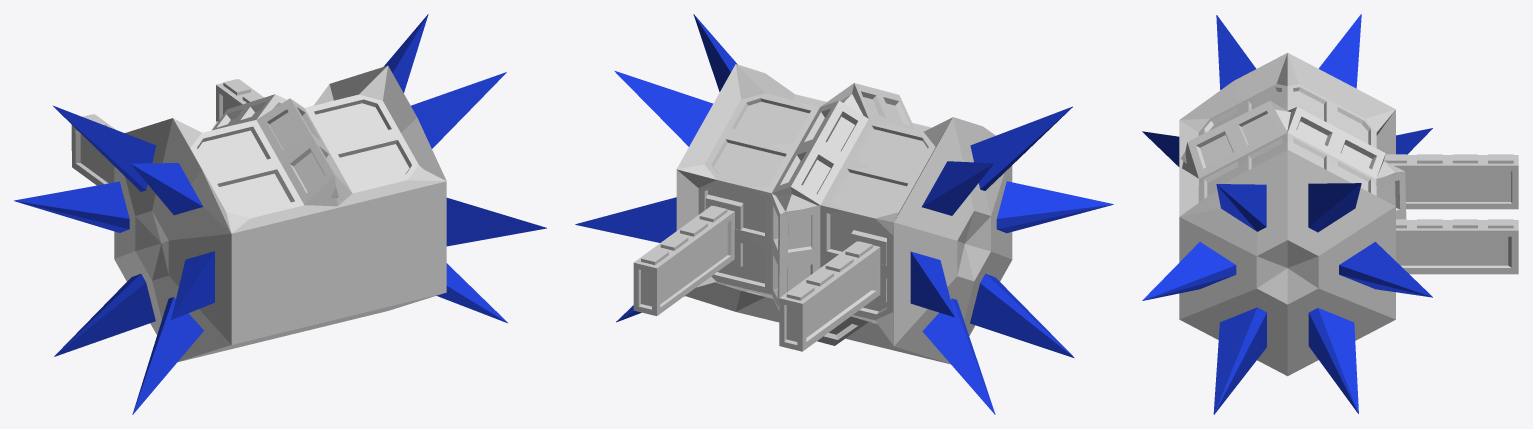
The model's file is BOSSGAME.fbx.
3 renders of one model, left to right at view 1: azimuth 30°, elevation 25°; view 2: azimuth 150°, elevation 25°; view 3: azimuth 270°, elevation 25°, orthographic. The views are drawn at different scales.
Parts seen in each view (by area): view 1: Cylinder; view 2: Cylinder; view 3: Cylinder.
Part boxes in pixels (bbox=[...]): Cylinder: bbox=[14, 14, 546, 414]; Cylinder: bbox=[575, 14, 1113, 414]; Cylinder: bbox=[1142, 14, 1518, 414].
Size of the model in its own units: 18.32 by 19.49 by 12.46.
